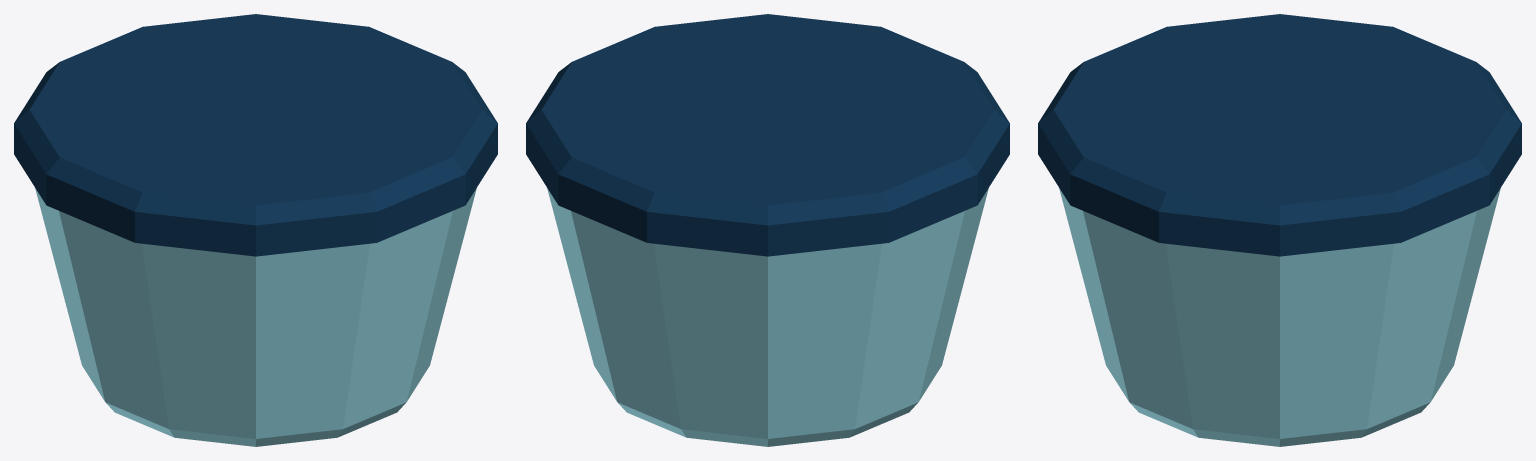
The model's file is Prop_Beauty_05.fbx.
3 views of the same model, side by side, from view 1: azimuth 30°, elevation 25°; view 2: azimuth 150°, elevation 25°; view 3: azimuth 270°, elevation 25° (orthographic).
Parts seen in each view (by area): view 1: Prop_Beauty_05; view 2: Prop_Beauty_05; view 3: Prop_Beauty_05.
Part boxes in pixels (x1,y1,x2,y2): Prop_Beauty_05: (14,14,497,446); Prop_Beauty_05: (526,14,1009,446); Prop_Beauty_05: (1038,14,1521,446).
Size of the model in its own units: 22.76 by 13.93 by 22.76.
